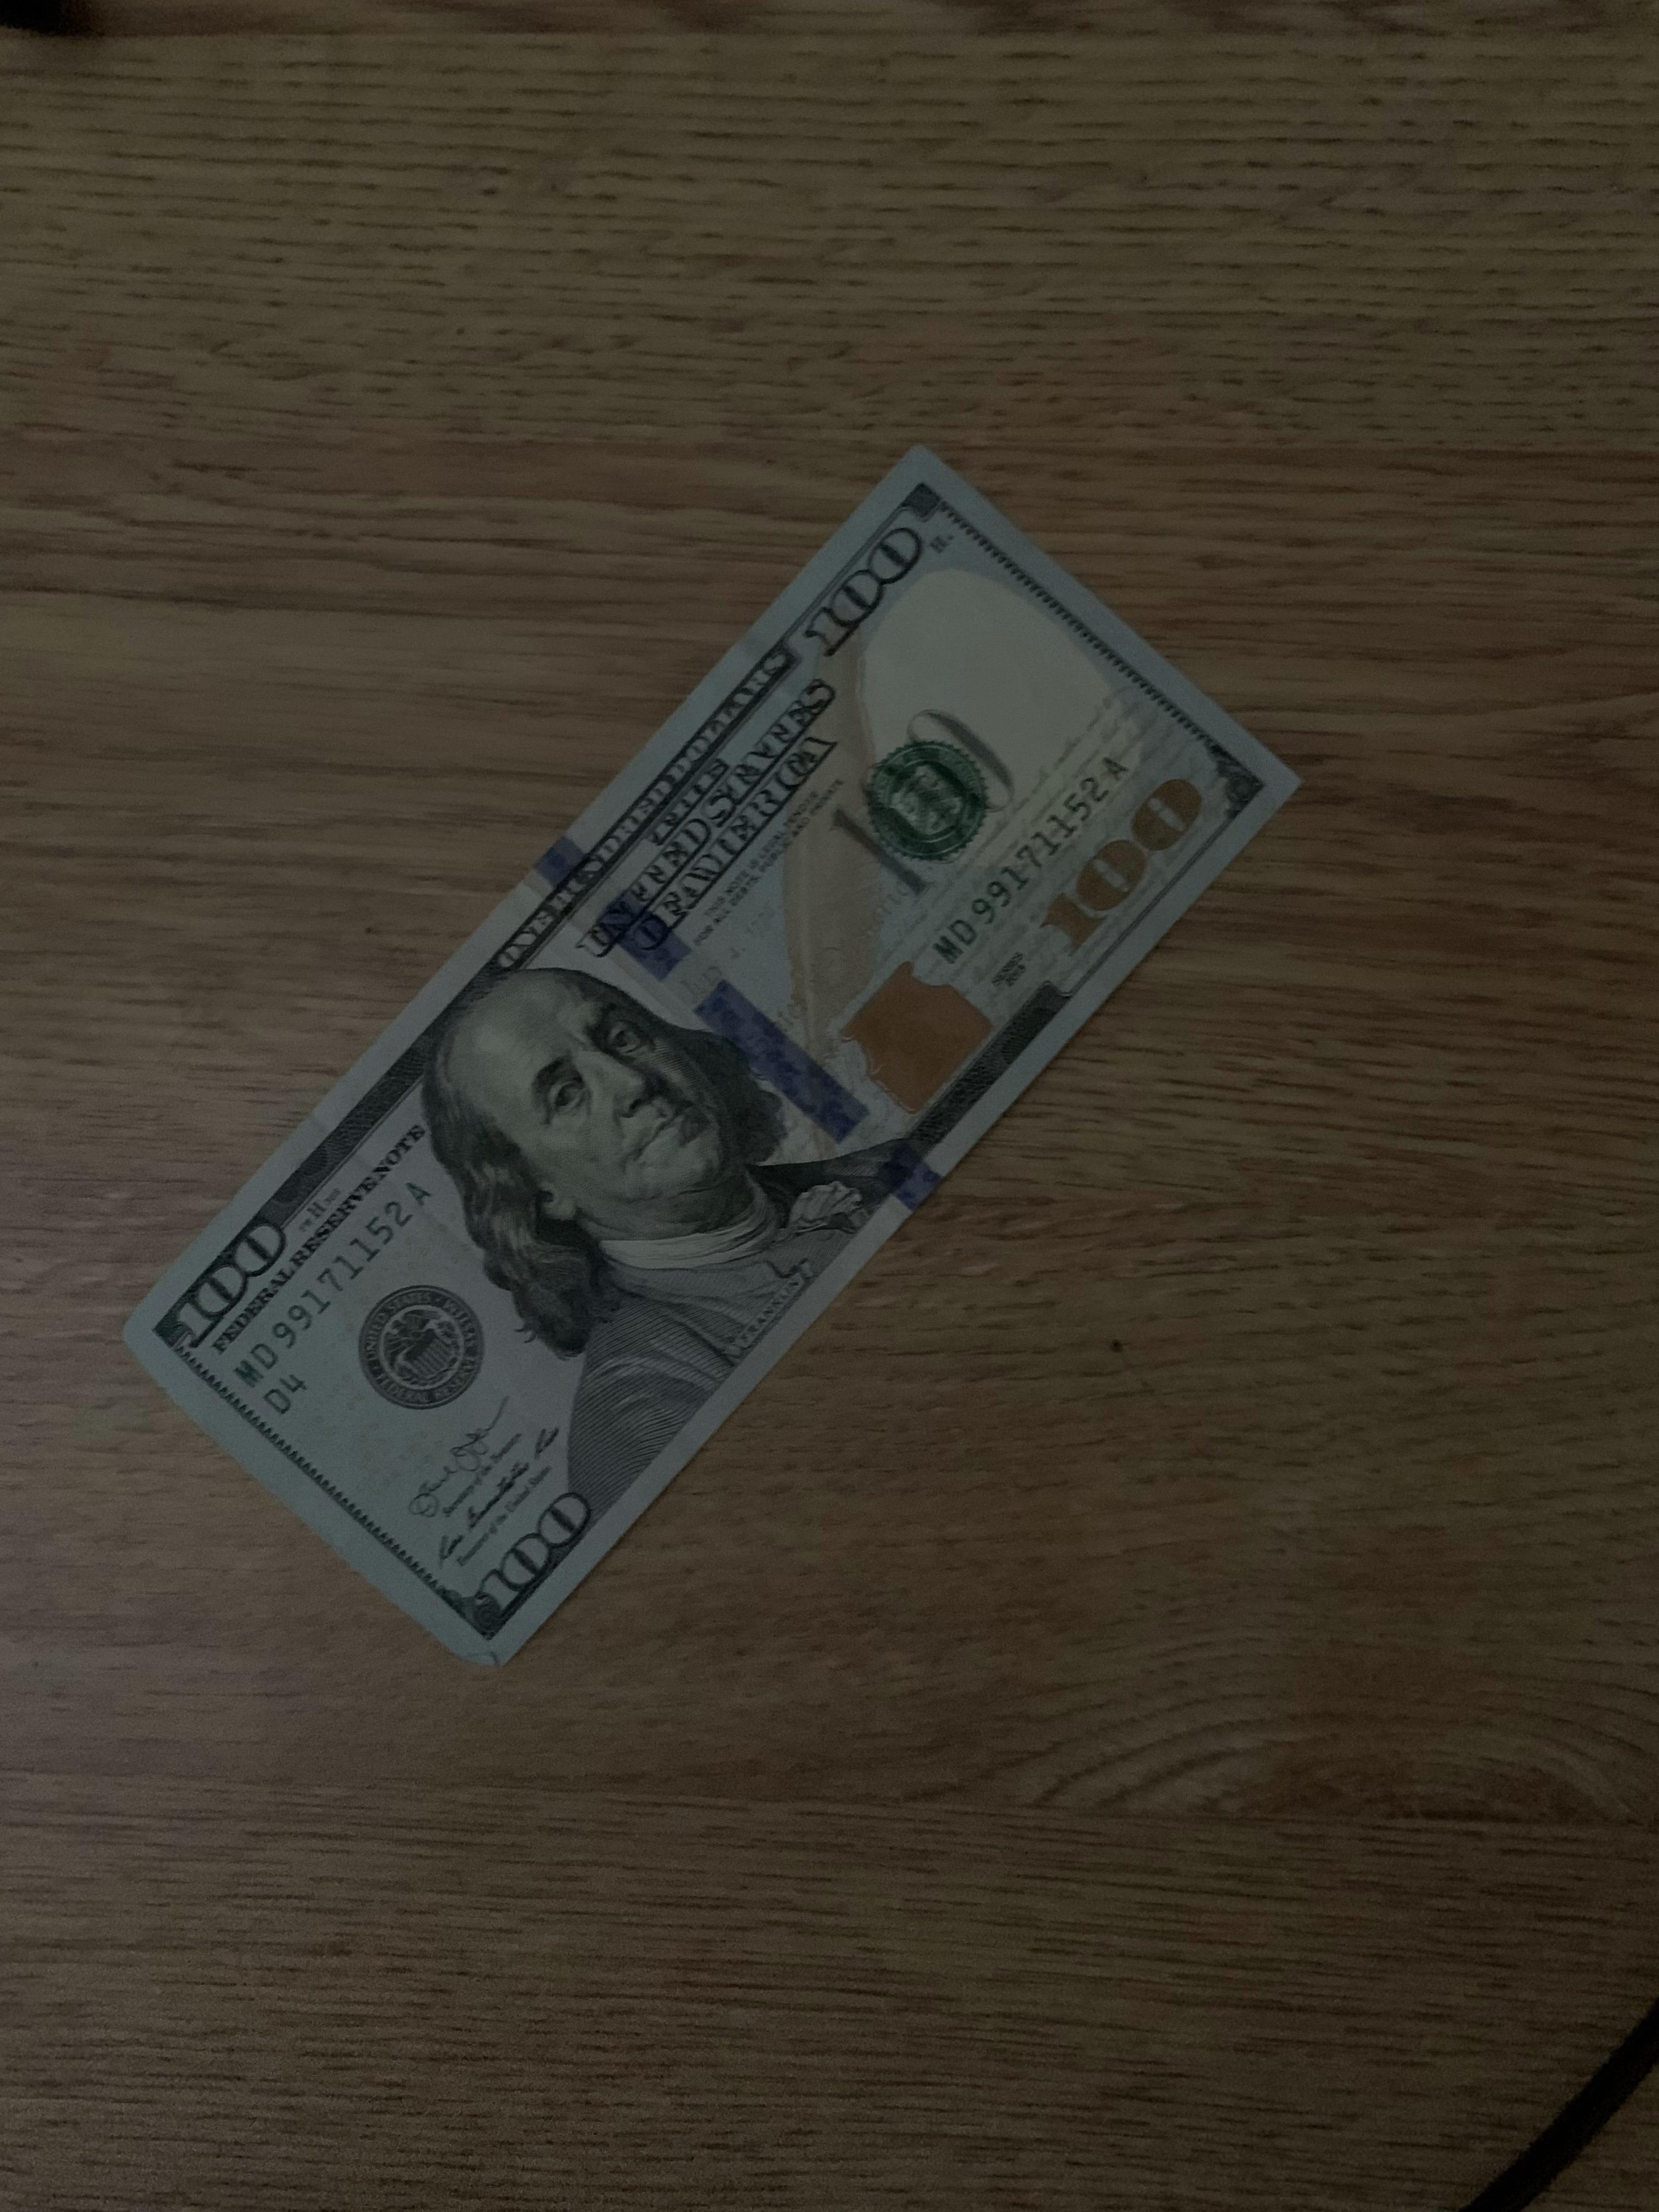HundredBill: (124, 446, 1319, 1676)
